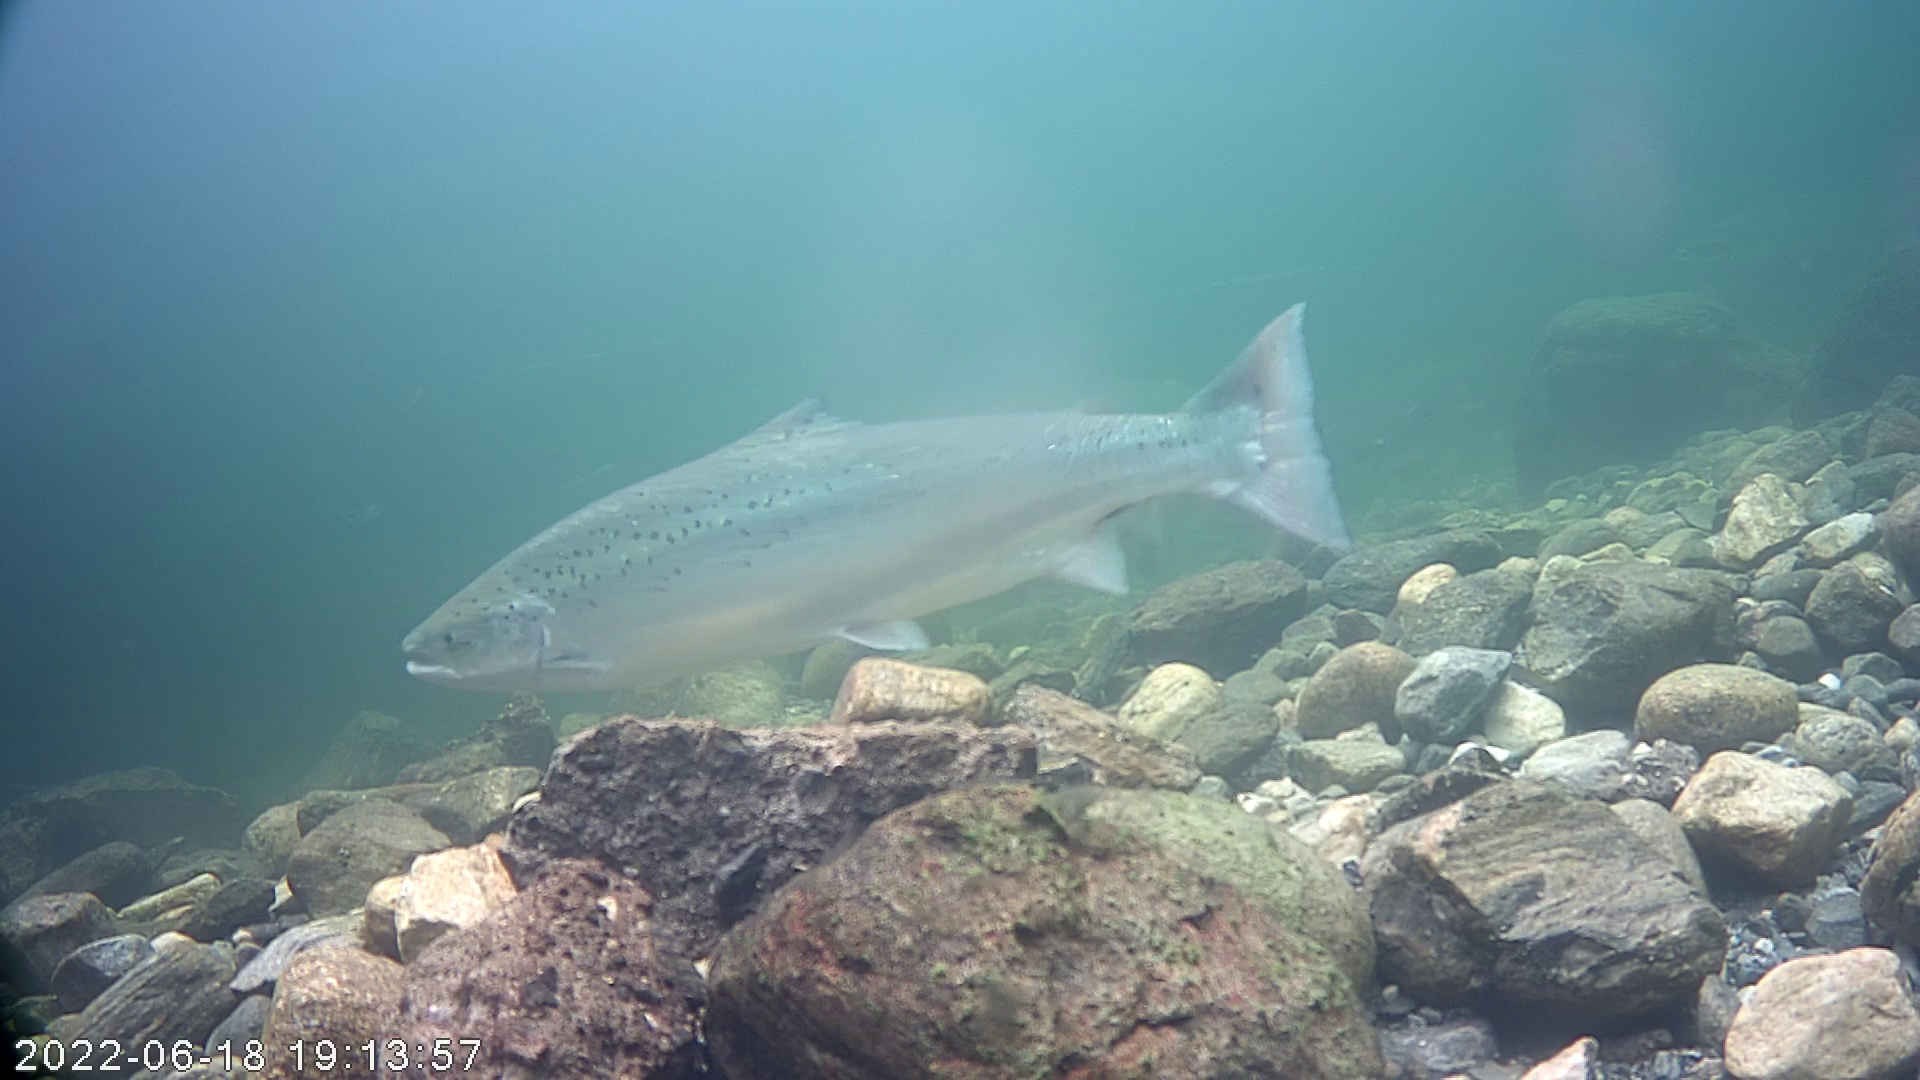salmon: (400, 295, 1369, 702)
